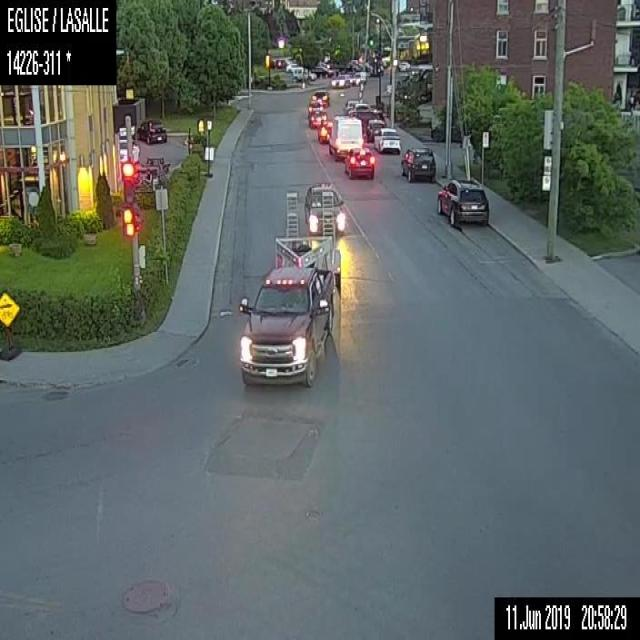vehicle: (238, 179, 346, 388), (435, 174, 487, 227), (302, 184, 347, 235), (328, 114, 363, 158), (402, 148, 435, 181), (345, 146, 375, 179), (135, 120, 166, 144), (116, 136, 140, 165), (374, 126, 400, 152), (365, 119, 385, 142), (308, 109, 328, 128), (293, 66, 316, 82), (311, 90, 329, 108), (318, 120, 332, 142), (331, 72, 350, 88), (311, 65, 332, 79), (342, 99, 357, 114), (349, 71, 365, 84), (397, 61, 411, 73), (286, 62, 298, 72)
